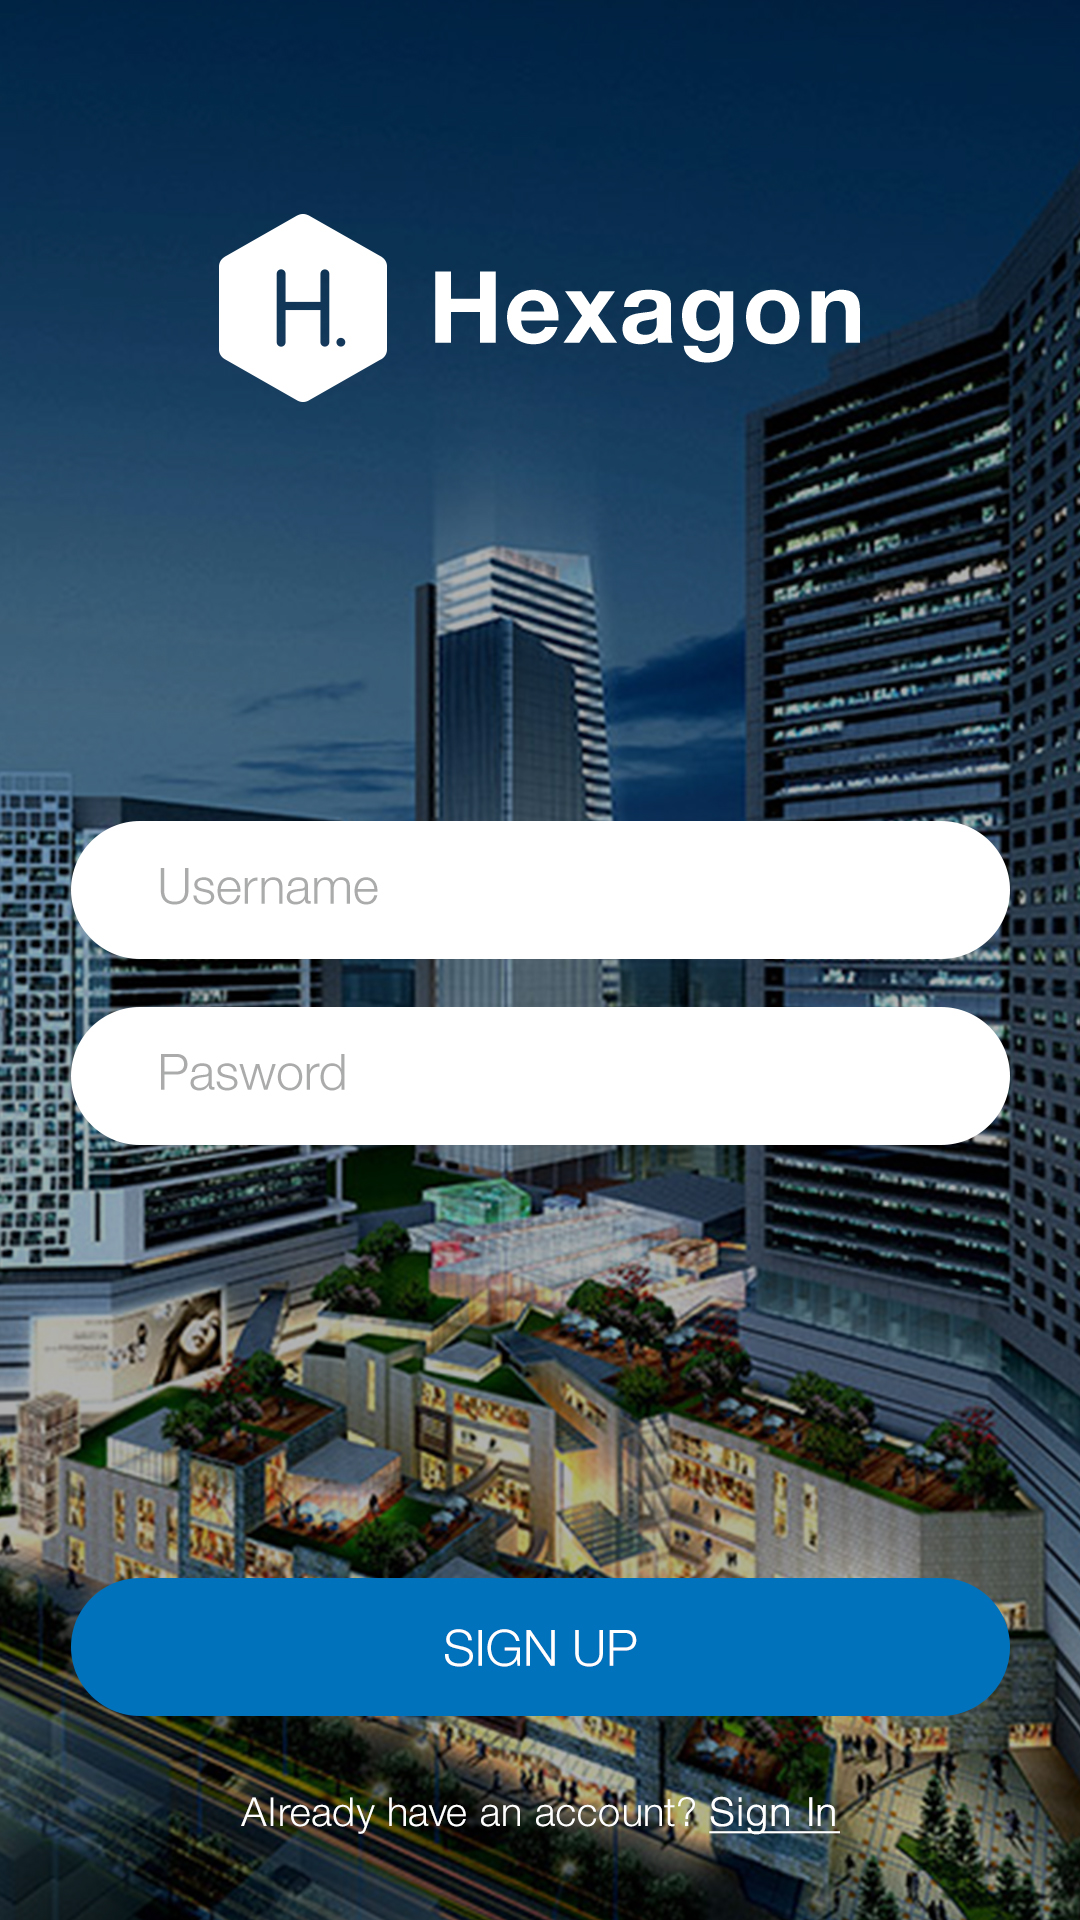BackgroundImage: (1, 1, 1080, 1920)
EditText: (71, 822, 1011, 960), (71, 1007, 1011, 1146)
Image: (219, 214, 389, 404)
Text: (435, 272, 861, 365), (241, 1796, 841, 1836), (160, 868, 378, 906), (160, 1054, 345, 1092)
TextButton: (71, 1578, 1011, 1716)
